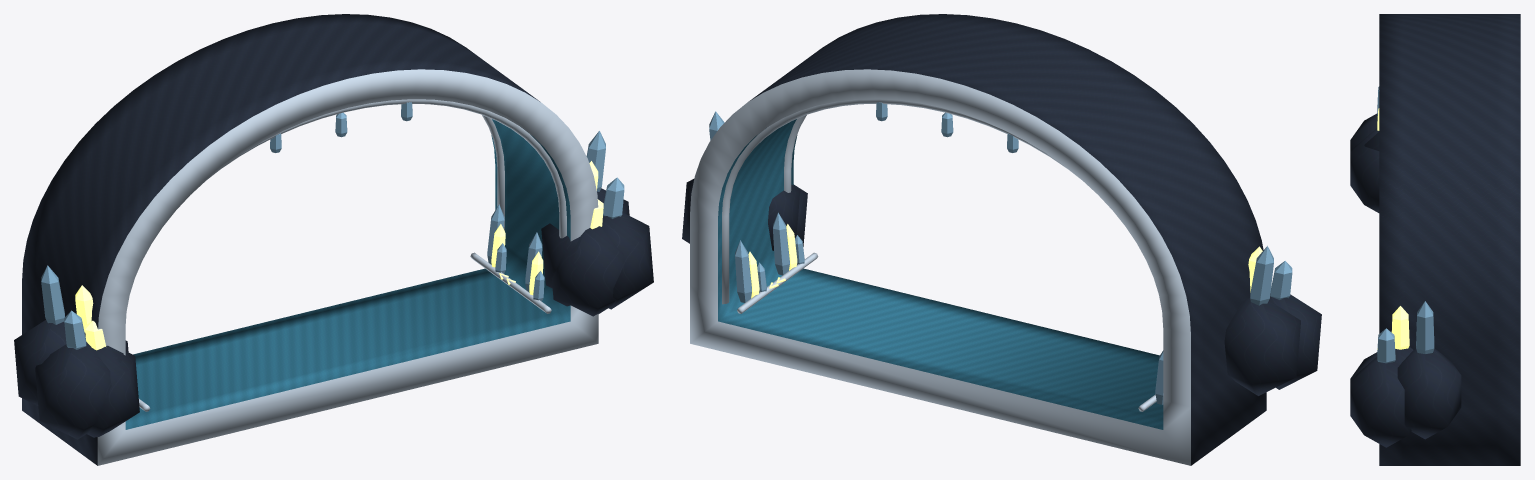
The model's file is portal_entry.glb.
3 renders of one model, left to right at view 1: azimuth 30°, elevation 25°; view 2: azimuth 150°, elevation 25°; view 3: azimuth 270°, elevation 25°, orthographic. The views are drawn at different scales.
Visible parts, largest first — view 1: TunnelGeometry; view 2: TunnelGeometry; view 3: TunnelGeometry.
Part boxes in pixels (left/top/right/bottom): TunnelGeometry: left=14, top=14, right=653, bottom=465; TunnelGeometry: left=682, top=14, right=1321, bottom=465; TunnelGeometry: left=1350, top=14, right=1520, bottom=465.
Bounding box in the file's own units: 18.63 × 9.52 × 4.82.
5 materials, 2 textured.
